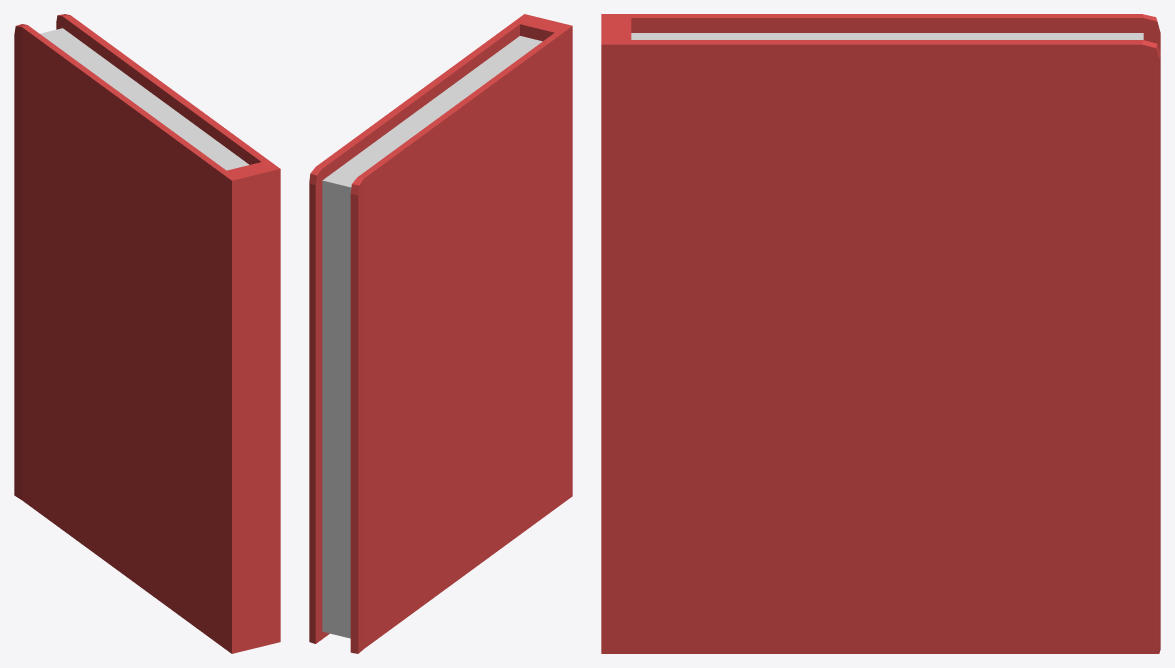
Rendered from book_2.fbx.
3 views of the same model, side by side, from view 1: azimuth 30°, elevation 25°; view 2: azimuth 150°, elevation 25°; view 3: azimuth 270°, elevation 25° (orthographic). The views are drawn at different scales.
Parts seen in each view (by area): view 1: Book_2; view 2: Book_2; view 3: Book_2.
Part boxes in pixels (left/top/right/bottom): Book_2: left=14, top=14, right=280, bottom=653; Book_2: left=309, top=14, right=572, bottom=653; Book_2: left=601, top=14, right=1160, bottom=653.
Bounding box in the file's own units: 3.36 × 30.75 × 25.58.
